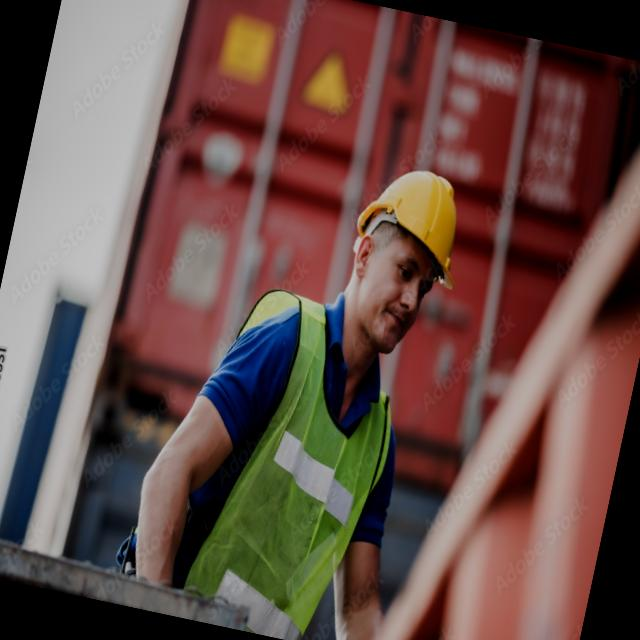helmet: (342, 150, 482, 292)
no-goggles: (357, 233, 452, 308)
vest: (181, 310, 408, 628)
